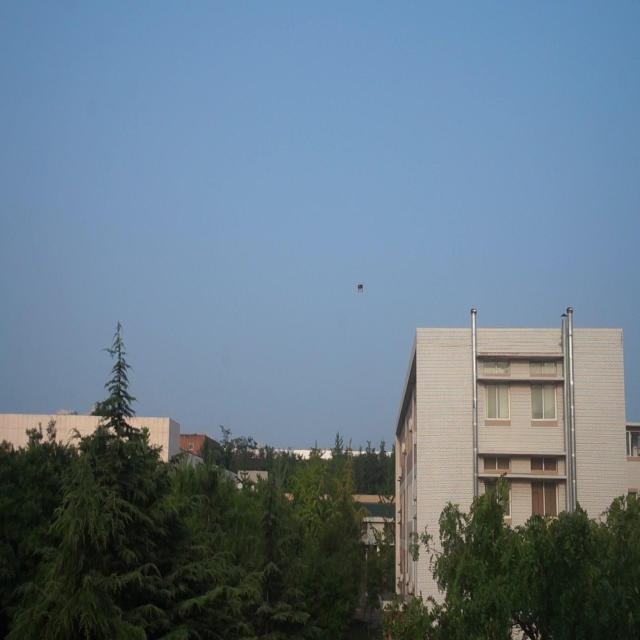drone: (356, 280, 364, 297)
